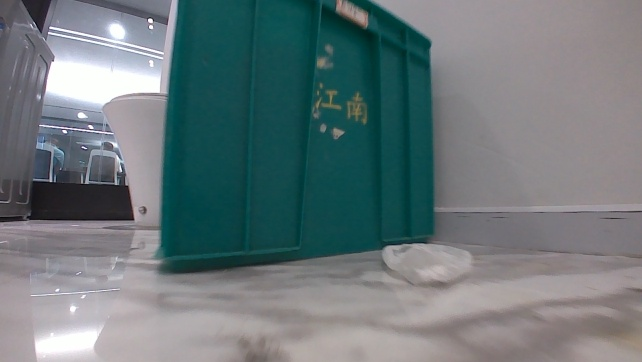socks: (379, 232, 478, 287)
toilet: (96, 89, 171, 228)
